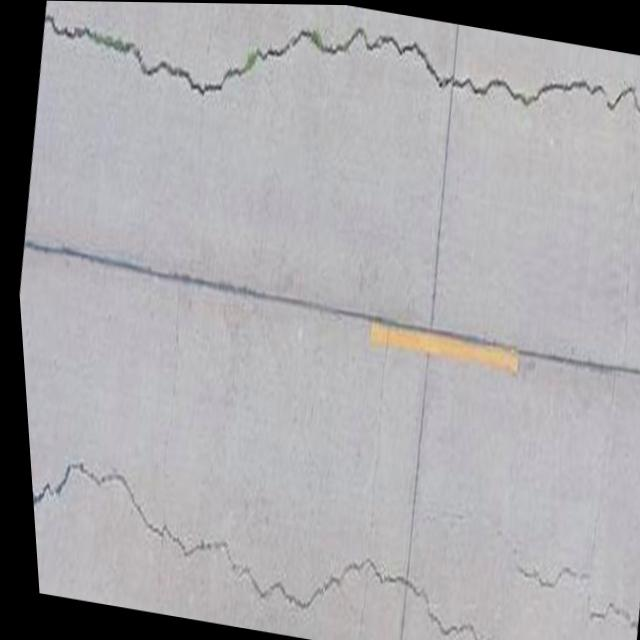Crack: (31, 0, 640, 202), (23, 447, 447, 640)
